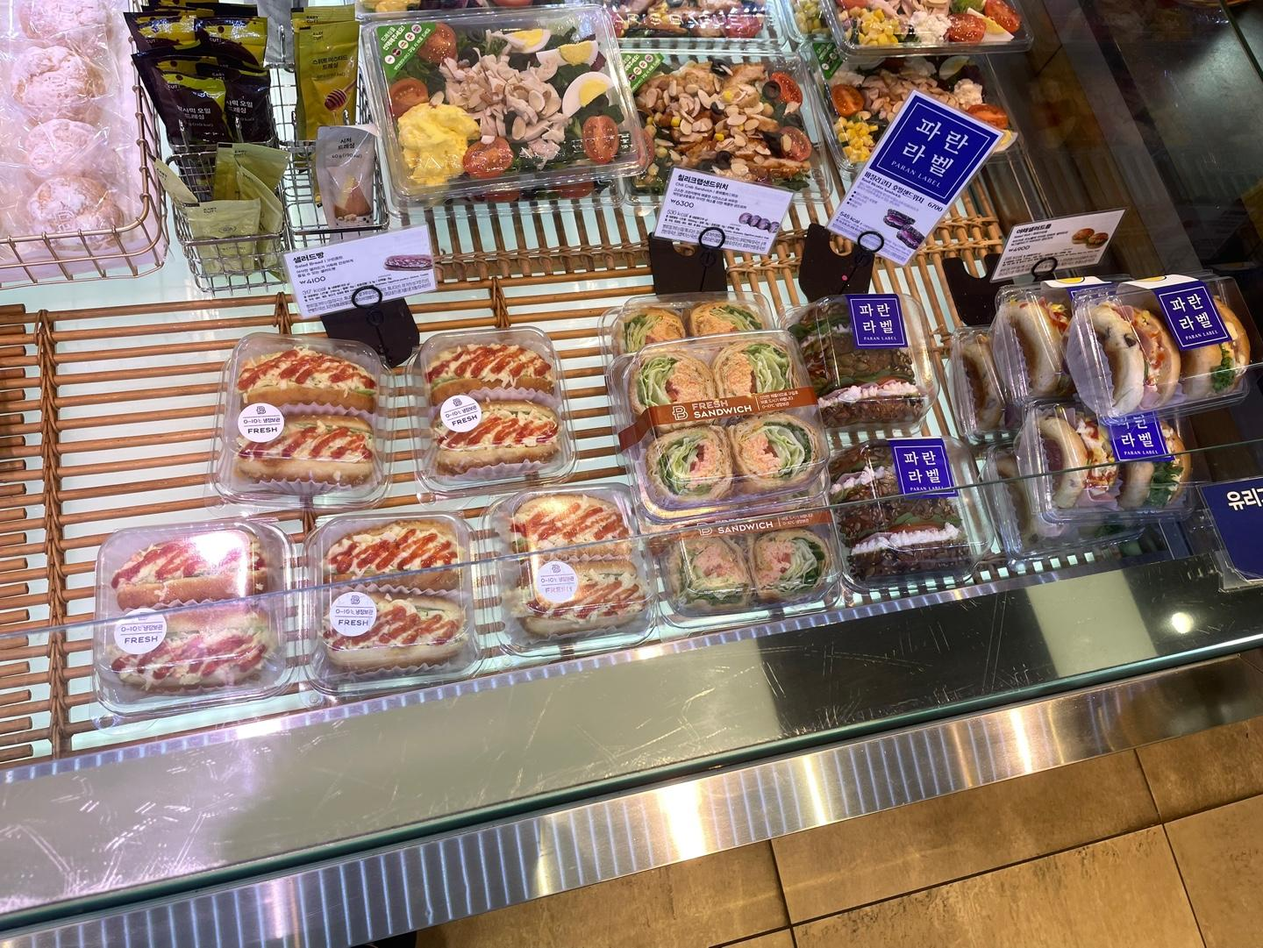Lunch Box: (360, 4, 649, 226), (92, 518, 301, 737), (607, 330, 827, 531), (475, 483, 657, 671), (211, 333, 403, 509), (301, 514, 482, 698), (621, 49, 828, 206), (806, 39, 1020, 182), (403, 327, 574, 496), (1063, 275, 1262, 417), (645, 508, 844, 641), (828, 437, 994, 589), (1011, 402, 1192, 538), (785, 294, 938, 434), (981, 445, 1144, 564), (991, 277, 1112, 405), (822, 0, 1031, 58), (945, 326, 1019, 444), (778, 0, 829, 42)
